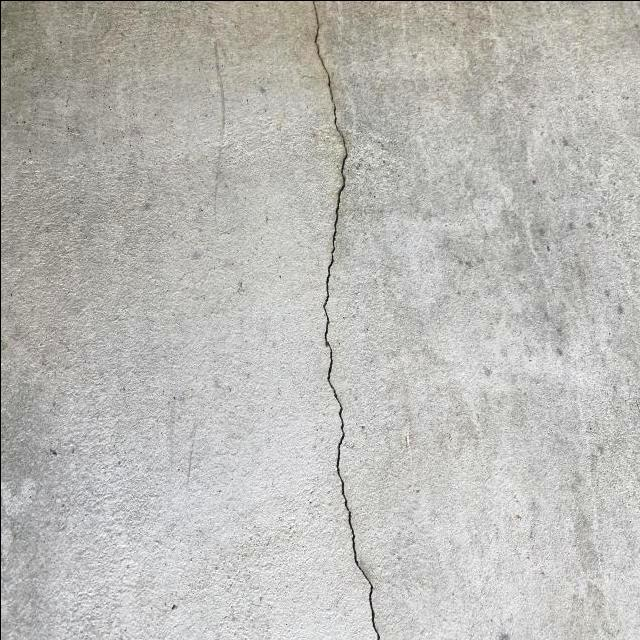SurfaceCrack: (264, 1, 410, 640)
